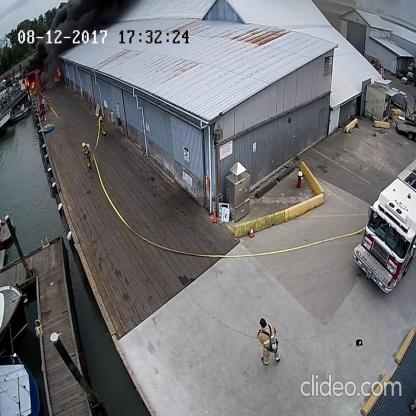fire: (23, 75, 37, 93), (51, 66, 64, 84)
